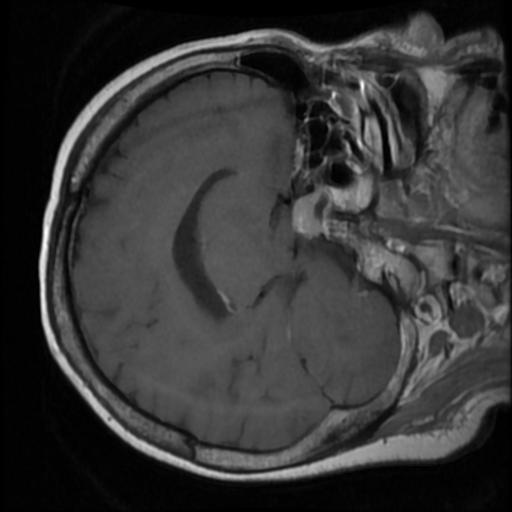pituitary tumour: (293, 191, 321, 239)
